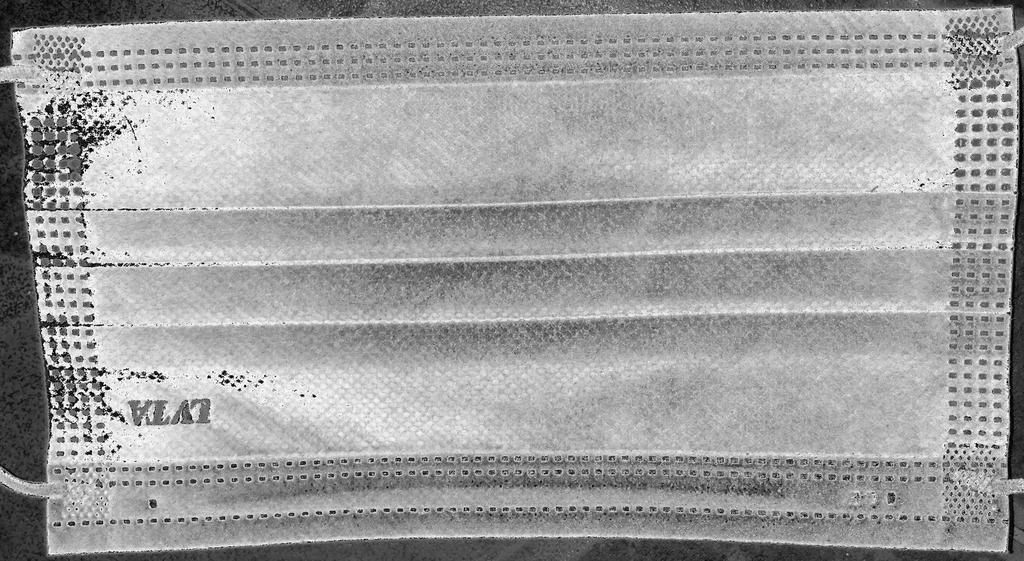High GSM: (14, 5, 1022, 554)
